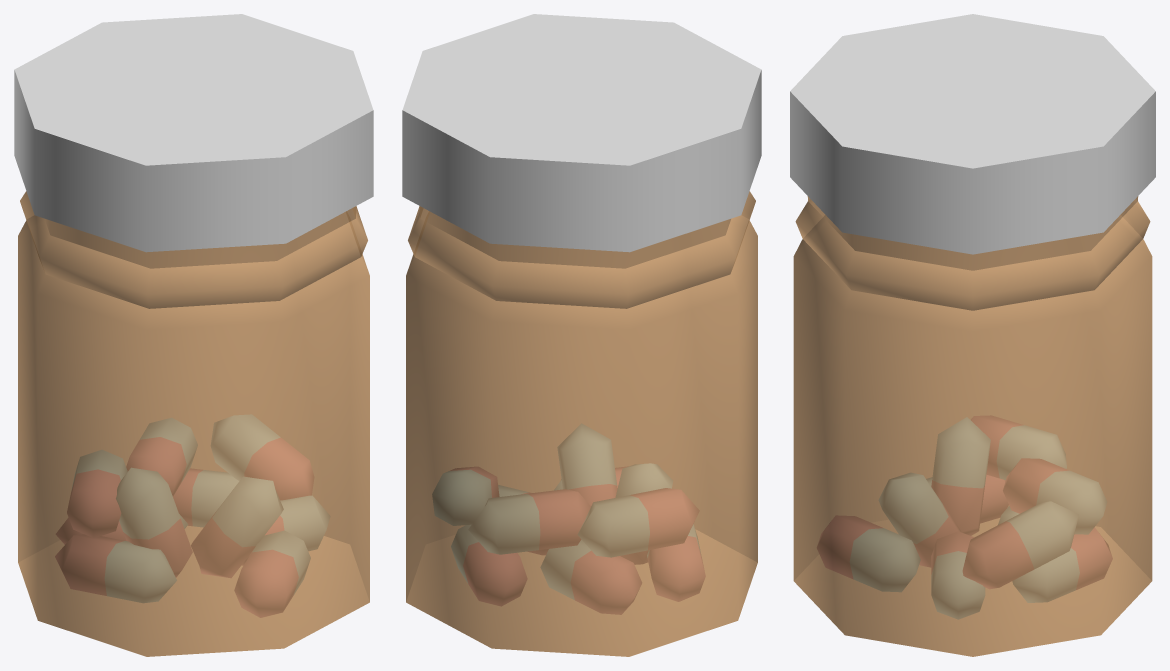
File: Pills.fbx
3 views of the same model, side by side, from view 1: azimuth 30°, elevation 25°; view 2: azimuth 150°, elevation 25°; view 3: azimuth 270°, elevation 25° (orthographic).
Visible parts, largest first — view 1: CrystalPills, Cover, Pills; view 2: CrystalPills, Cover, Pills; view 3: CrystalPills, Cover, Pills.
Part boxes in pixels (bbox=[...]): CrystalPills: bbox=[18, 191, 369, 656]; Cover: bbox=[14, 14, 373, 252]; Pills: bbox=[55, 414, 330, 617]; CrystalPills: bbox=[406, 191, 757, 656]; Cover: bbox=[402, 14, 761, 252]; Pills: bbox=[432, 423, 705, 614]; CrystalPills: bbox=[793, 196, 1152, 656]; Cover: bbox=[790, 14, 1155, 254]; Pills: bbox=[817, 415, 1112, 619].
Bounding box in the file's own units: 2.86 × 2.86 × 4.22.
